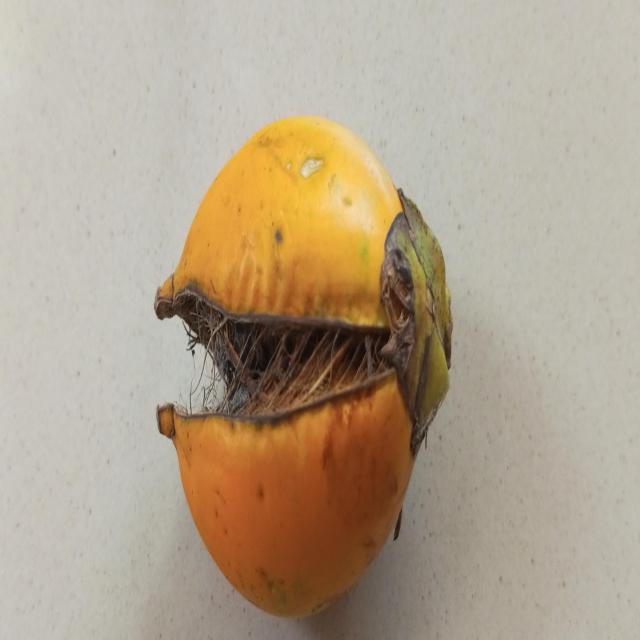damaged: (154, 116, 455, 619)
